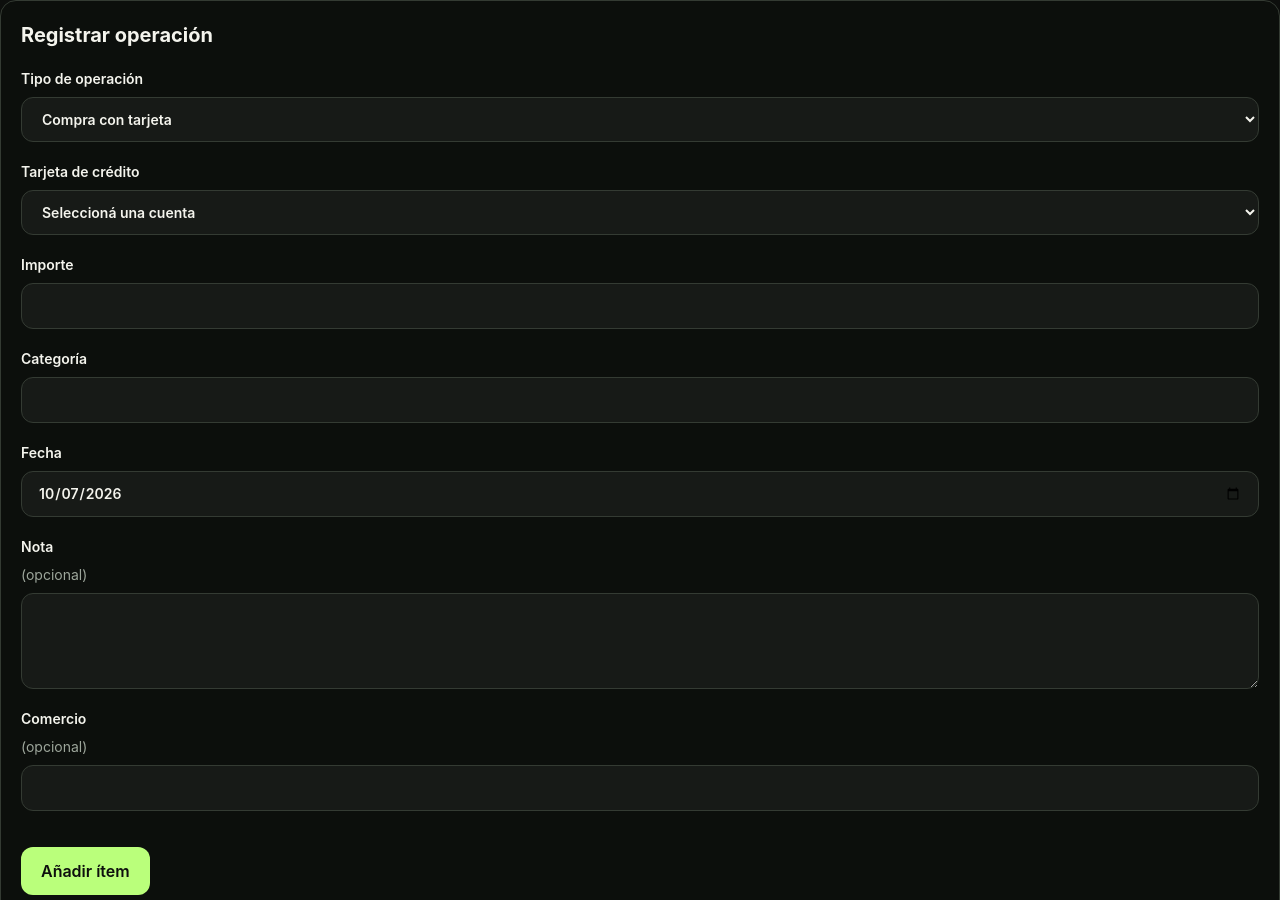
it: OperationForm › shows the benefit calculation automatically without an apply button
This screenshot has width=1280, height=900.
Select "Visa" in the dropdown labelled "Tarjeta de crédito" at (640, 212), box [21, 190, 1259, 235]
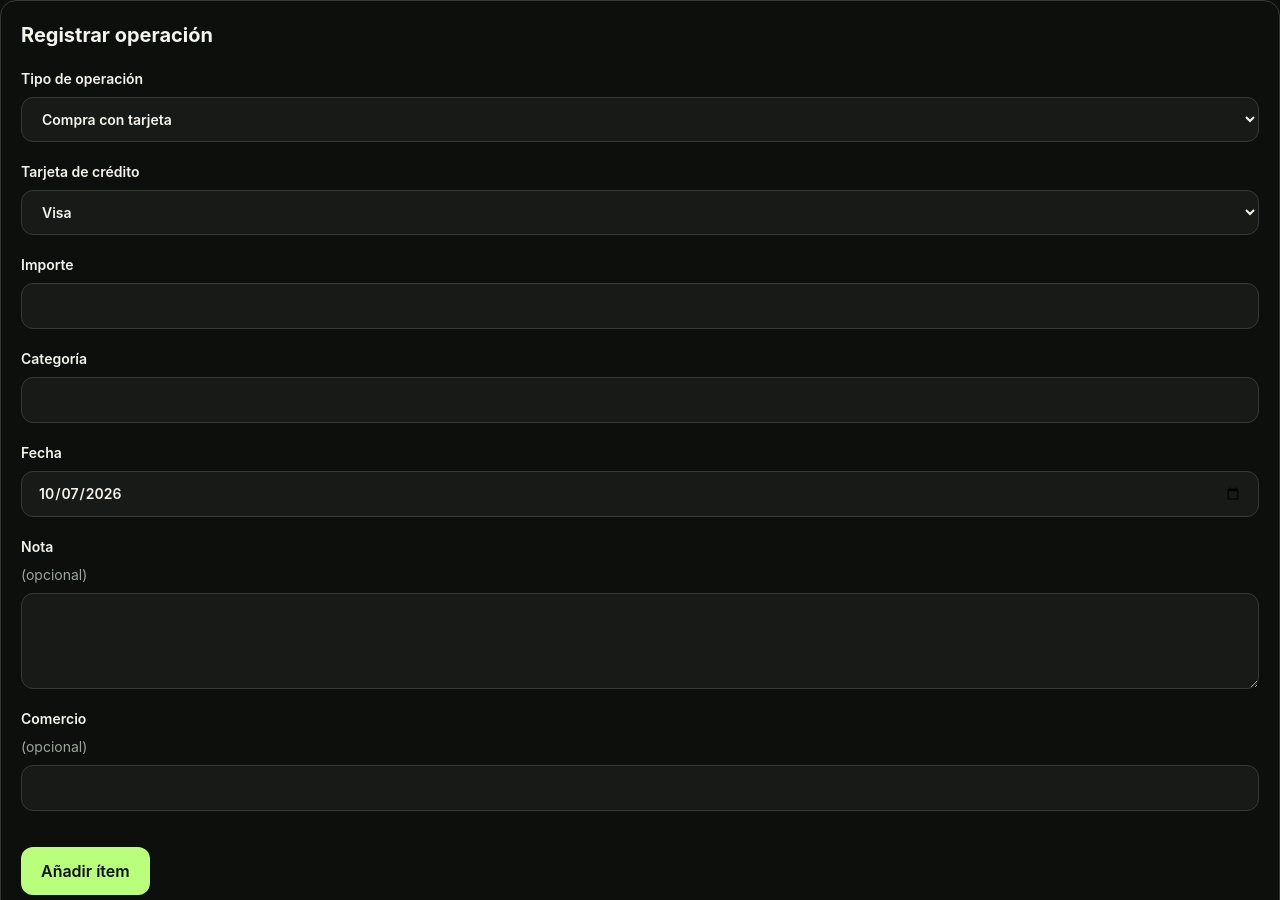
Type "85000" into the field labelled "Importe" at (640, 306), box [21, 283, 1259, 329]
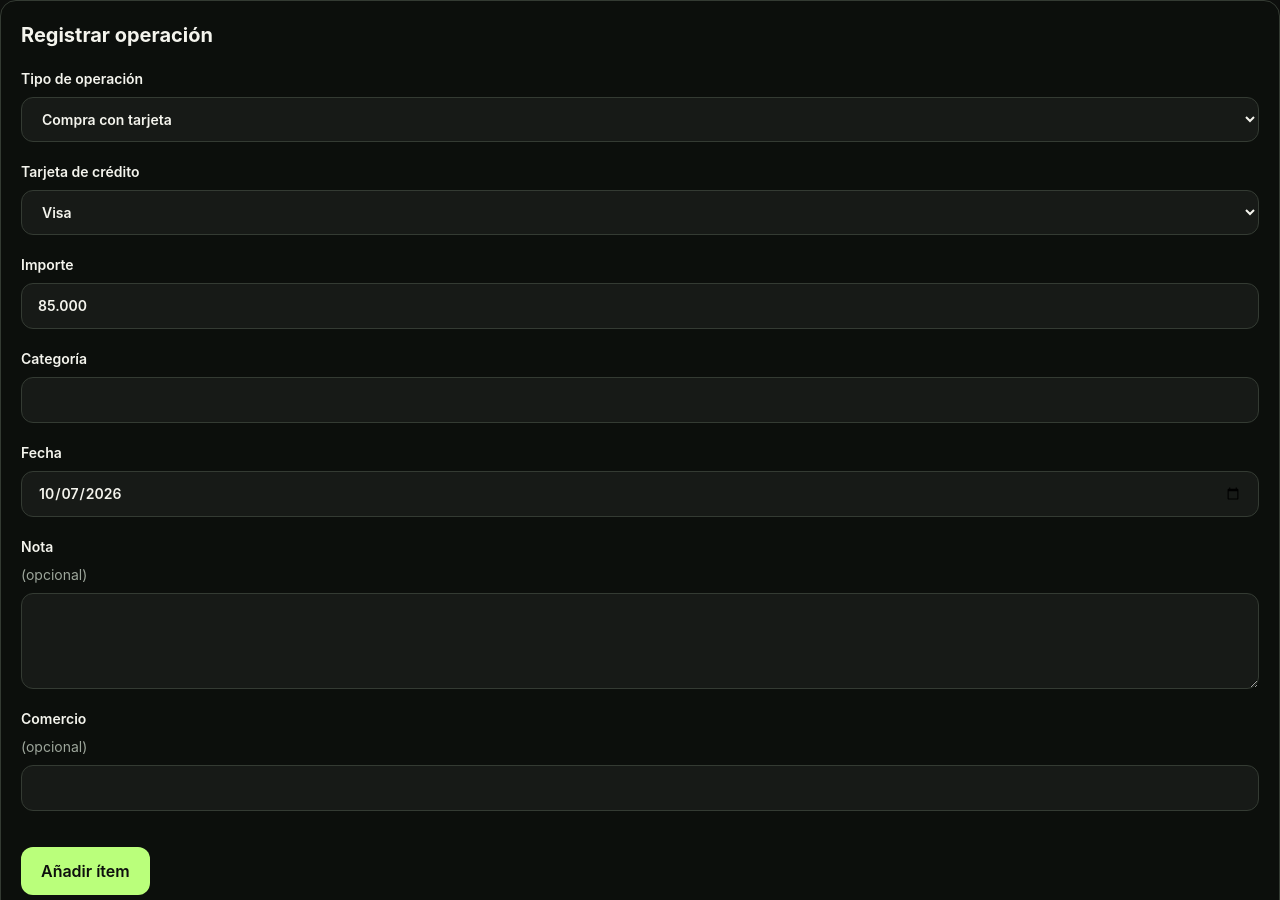
Type "2026-09-15" into the date field labelled "Fecha" at (640, 494), box [21, 471, 1259, 517]
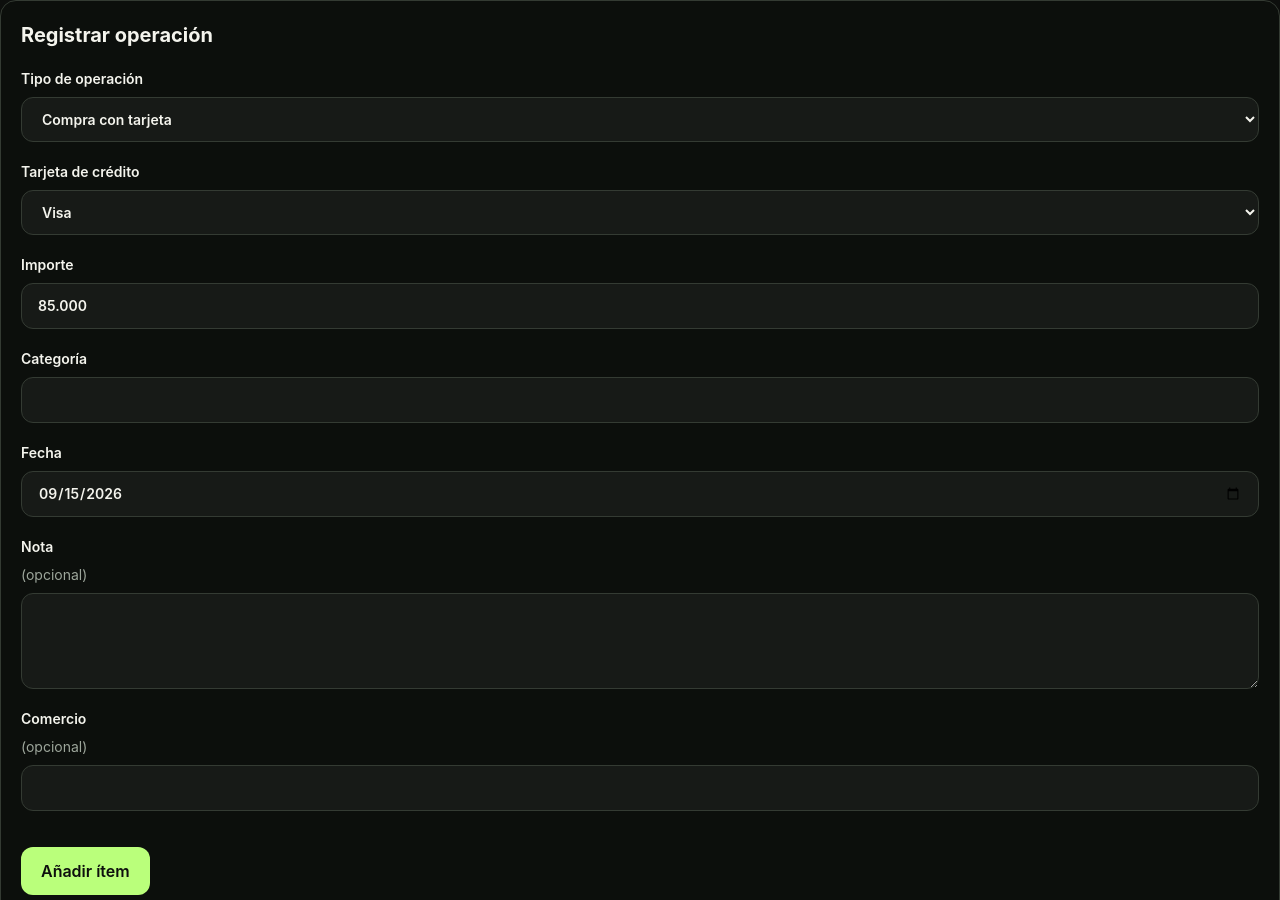
Type "Biggie" into the field labelled "Comercio (opcional)" at (640, 788), box [21, 765, 1259, 811]
(page scrolled)
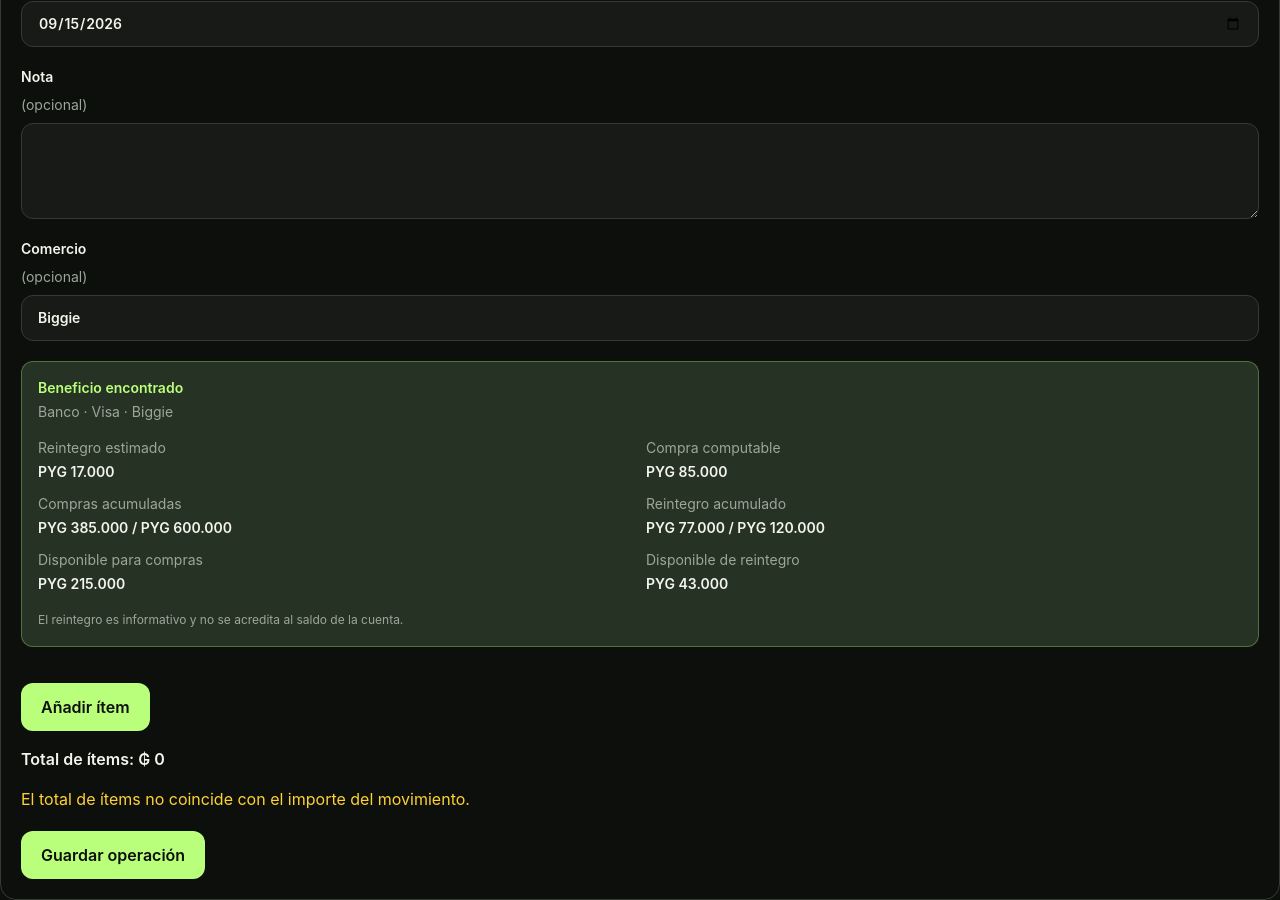
Expected: the message shows "Beneficio encontrado", [38, 379, 183, 396]
Expected: the message shows "Banco · Visa", [38, 403, 120, 420]
Expected: the message shows "Biggie", [132, 403, 173, 420]
